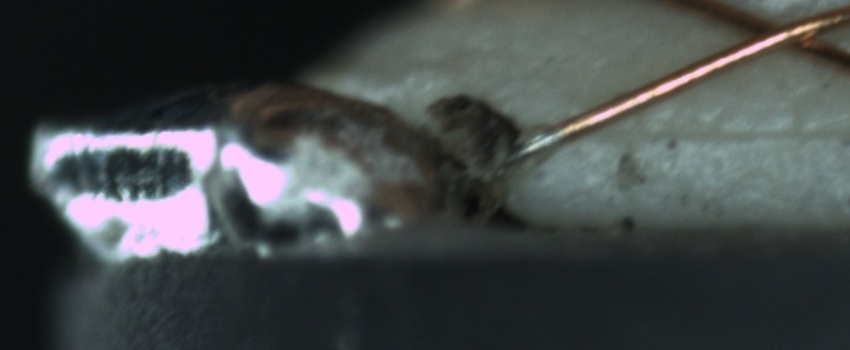CL: (715, 2, 842, 61)
DL: (606, 99, 846, 165)
TS: (472, 126, 559, 190)
